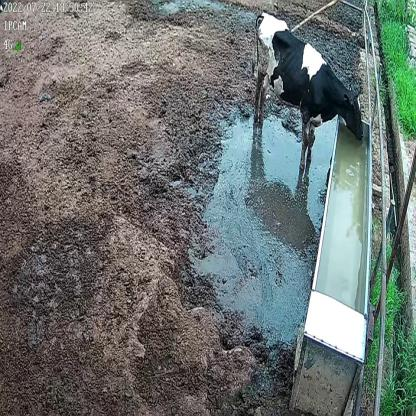cow: (253, 11, 367, 167)
